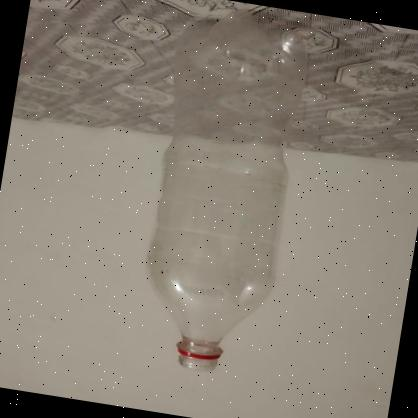bottle: (130, 4, 319, 385)
